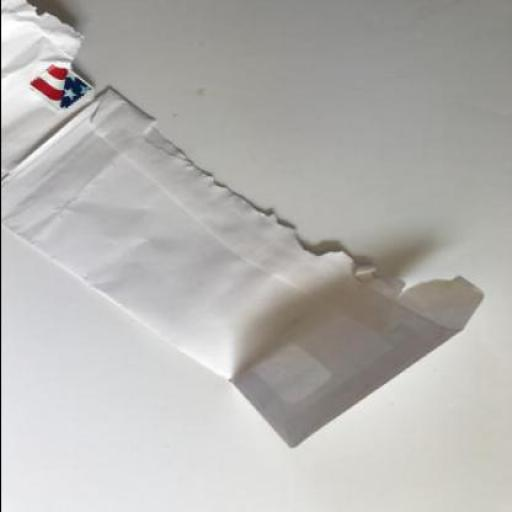paper: (1, 2, 480, 450)
